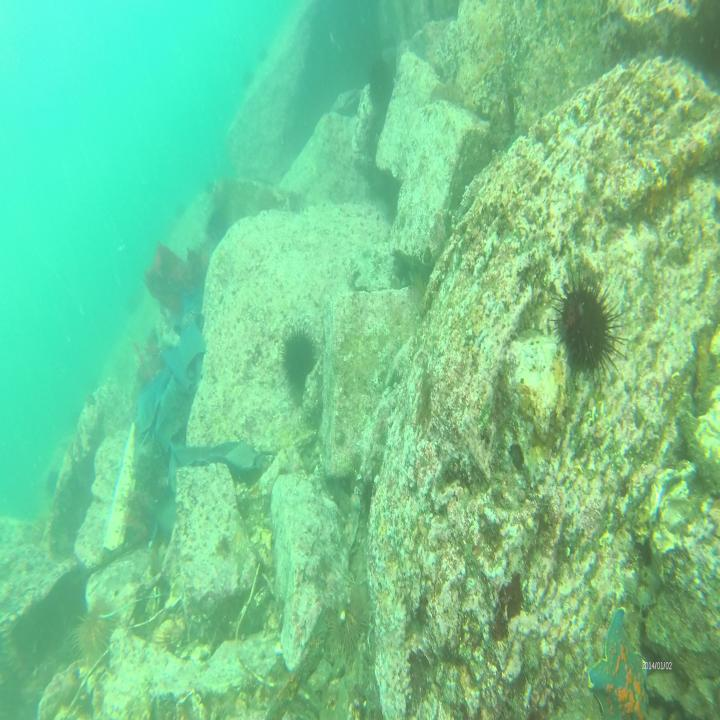echinus: (553, 261, 618, 382), (330, 588, 368, 662), (277, 325, 317, 388), (74, 602, 110, 666), (203, 208, 229, 243)
scallop: (156, 616, 186, 656)
starfish: (582, 602, 653, 720)
